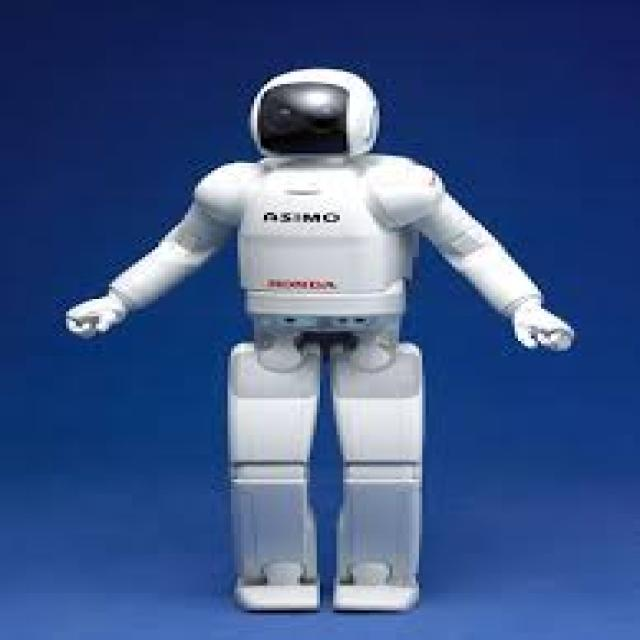humanoid-arm: (63, 238, 193, 339), (468, 248, 578, 351)
humanoid-leg: (229, 350, 322, 610), (335, 359, 424, 618)
